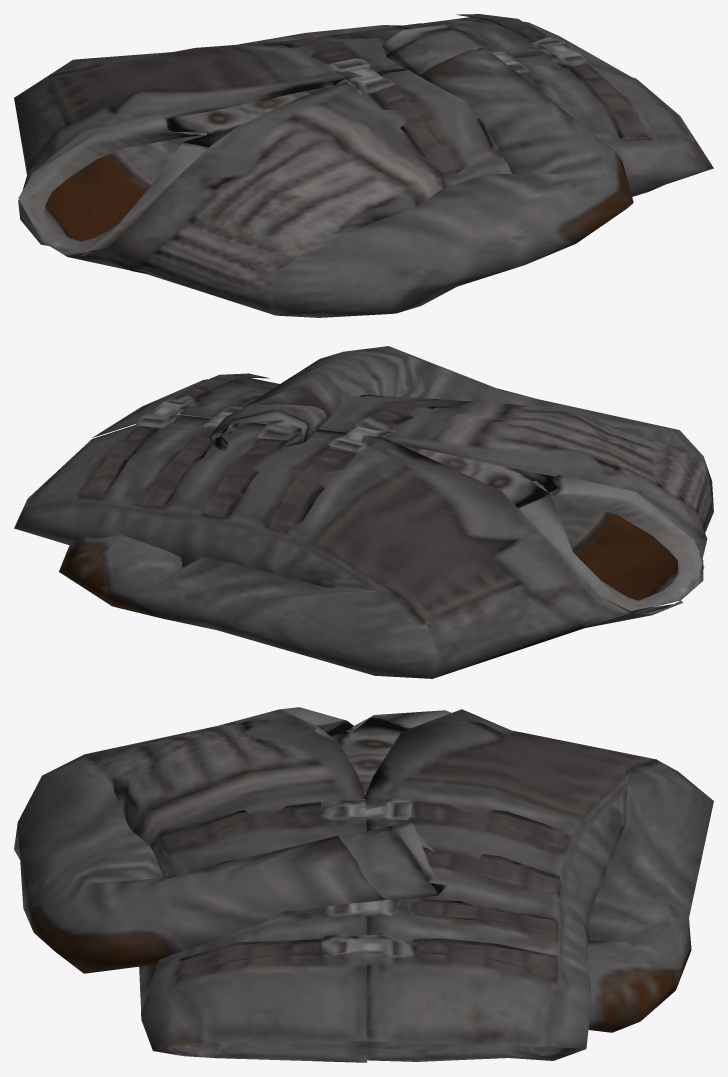
The model's file is ManhunterShirt_Ground.fbx.
3 views of the same model, one above another, from view 1: azimuth 30°, elevation 25°; view 2: azimuth 150°, elevation 25°; view 3: azimuth 270°, elevation 25° (orthographic). The views are drawn at different scales.
Visible parts, largest first — view 1: GND_outfit; view 2: GND_outfit; view 3: GND_outfit.
Boxes of the visible parts, x1,y1,x2,y2 form: GND_outfit: [14, 14, 713, 317]; GND_outfit: [14, 346, 713, 678]; GND_outfit: [14, 707, 713, 1062].
Bounding box in the file's own units: 0.3028 × 0.0652 × 0.2705.
